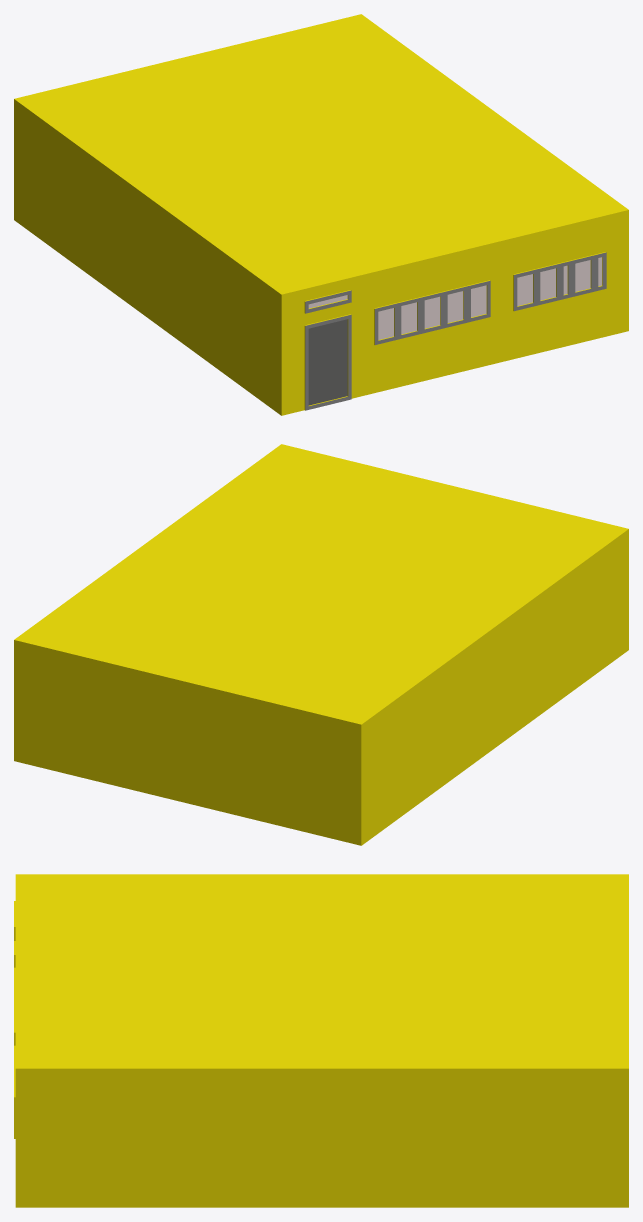
Rendered from casa4.fbx.
3 views of the same model, one above another, from view 1: azimuth 30°, elevation 25°; view 2: azimuth 150°, elevation 25°; view 3: azimuth 270°, elevation 25° (orthographic). The views are drawn at different scales.
Visible parts, largest first — view 1: Cubo; view 2: Cubo; view 3: Cubo.
Boxes of the visible parts, box(x1,y1,x2,y2) form: Cubo: box(14, 14, 628, 415); Cubo: box(14, 444, 628, 845); Cubo: box(14, 874, 628, 1207).
Bounding box in the file's own units: 300 × 100 × 401.
